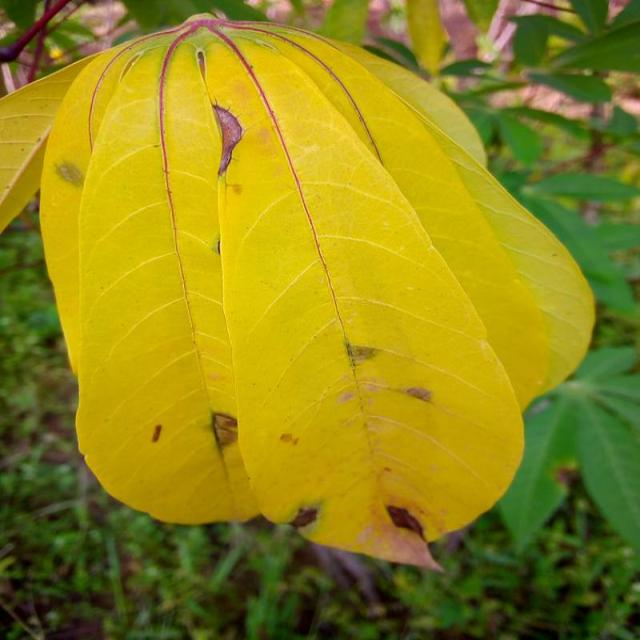cassava leaf: (31, 13, 596, 572)
